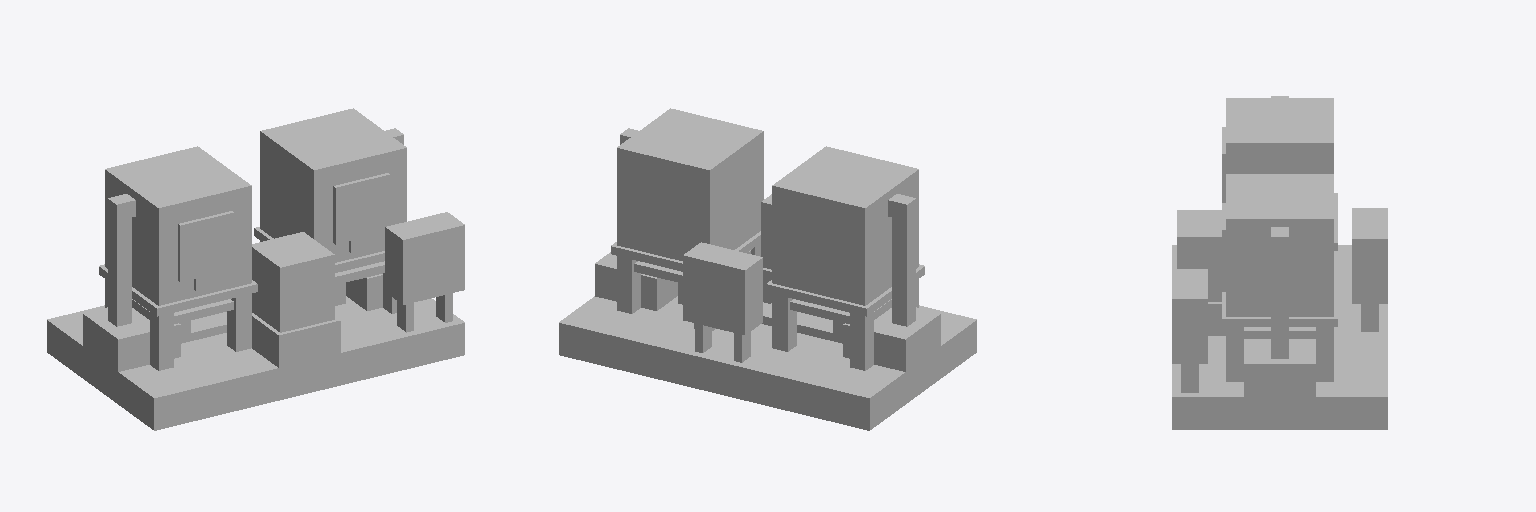
The model's file is refinery.obj.
The picture shows the model from 3 angles: view 1: azimuth 30°, elevation 25°; view 2: azimuth 150°, elevation 25°; view 3: azimuth 270°, elevation 25°; orthographic projection.
Visible parts, largest first — view 1: refinery; view 2: refinery; view 3: refinery.
Boxes of the visible parts, x1,y1,x2,y2 form: refinery: [47, 108, 464, 430]; refinery: [559, 108, 976, 430]; refinery: [1172, 96, 1387, 429].
Bounding box in the file's own units: 5 × 3 × 3.